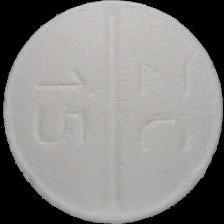21695-101: (0, 0, 224, 224)
